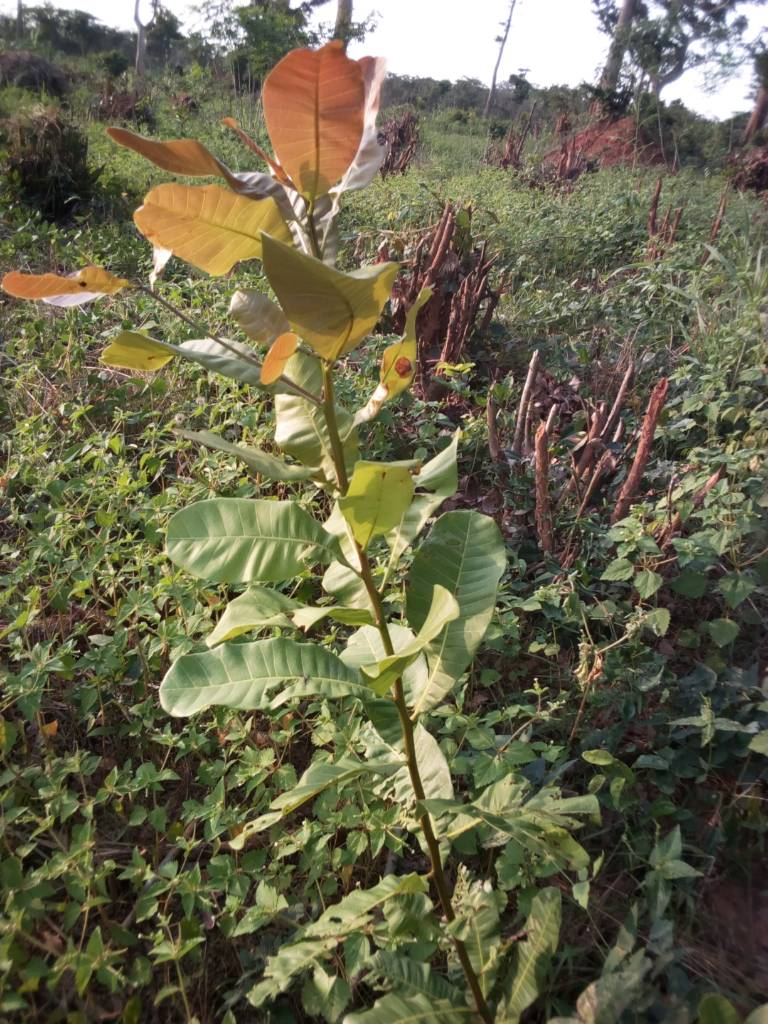Dysdercus wolkerii: (364, 290, 441, 425)
